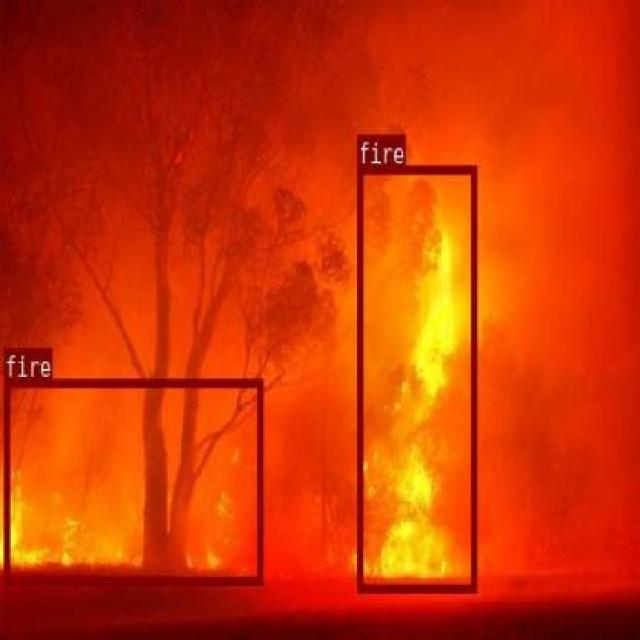fire: (3, 377, 262, 583), (356, 163, 476, 591)
